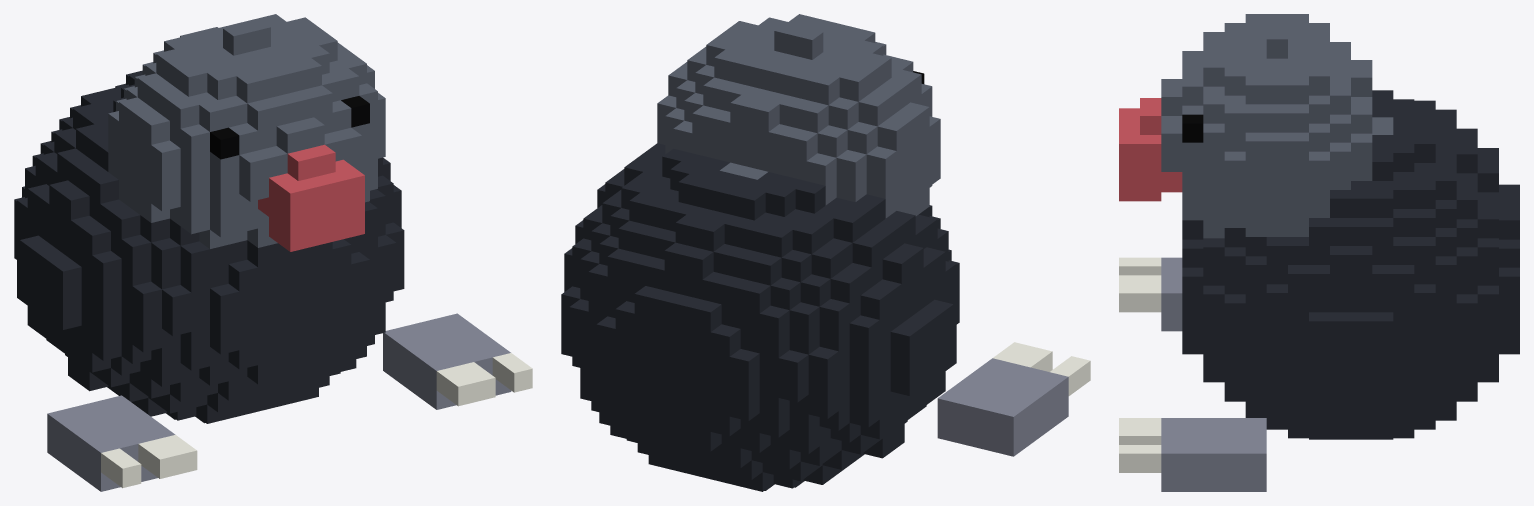
Rendered from talpa_di_fero.glb.
3 views of the same model, side by side, from view 1: azimuth 30°, elevation 25°; view 2: azimuth 150°, elevation 25°; view 3: azimuth 270°, elevation 25° (orthographic). The views are drawn at different scales.
Visible parts, largest first — view 1: brainrot; view 2: brainrot; view 3: brainrot.
Part boxes in pixels (x1,y1,x2,y2): brainrot: (14,14,532,491); brainrot: (561,14,1090,491); brainrot: (1119,14,1519,491).
Size of the model in its own units: 2.86 by 2.6 by 2.47.
Materials: 1 (1 with a texture image).
